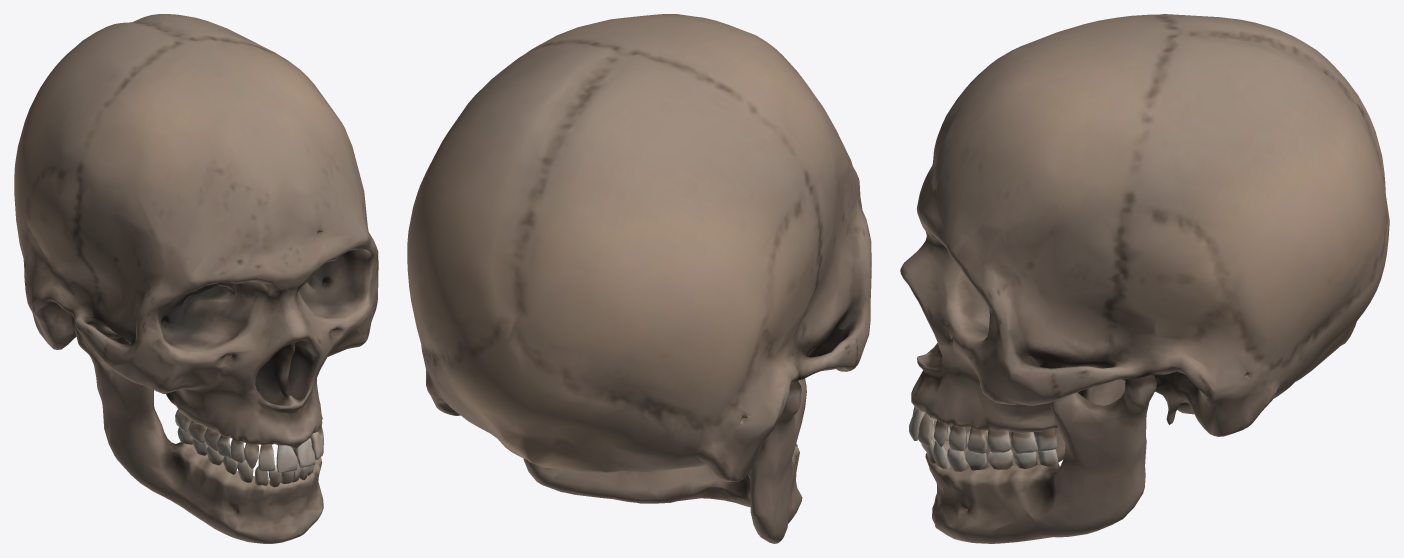
File: skull.glb
The picture shows the model from 3 angles, left to right: view 1: azimuth 30°, elevation 25°; view 2: azimuth 150°, elevation 25°; view 3: azimuth 270°, elevation 25°; orthographic projection. The views are drawn at different scales.
Parts seen in each view (by area): view 1: Object_2; view 2: Object_2; view 3: Object_2.
Part boxes in pixels (x1,y1,x2,y2): Object_2: [14, 14, 378, 543]; Object_2: [407, 14, 871, 543]; Object_2: [900, 14, 1389, 543].
Bounding box in the file's own units: 1.34 × 2 × 1.79.
1 material, 1 textured.
